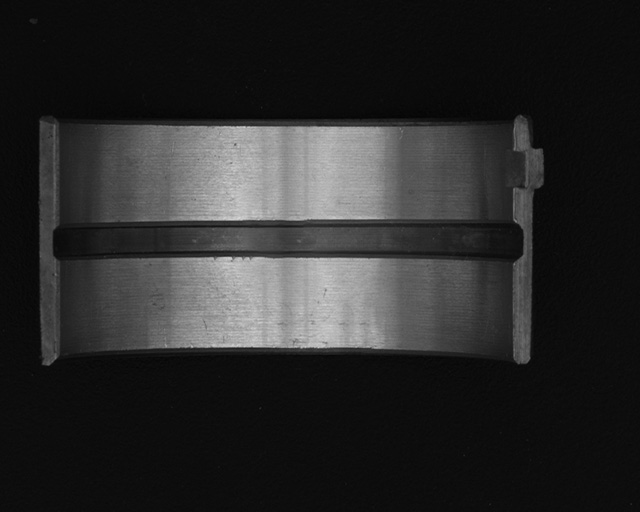gap: (51, 219, 526, 266)
